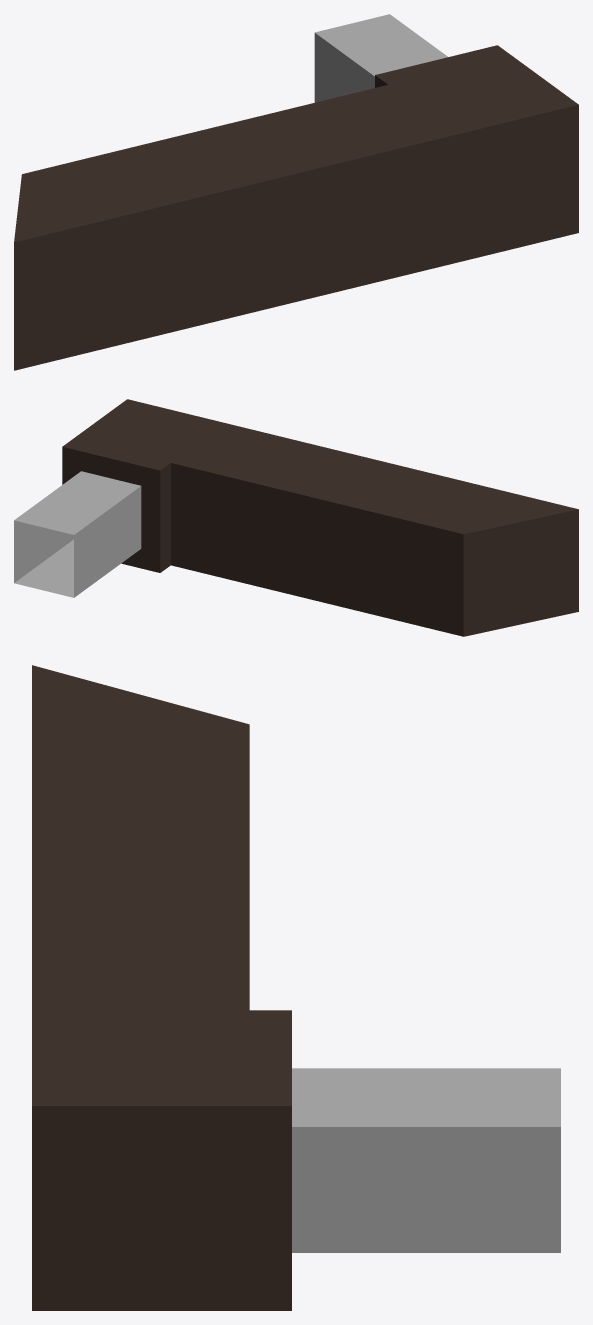
File: Door Handle 2.fbx
The picture shows the model from 3 angles, top to bottom: view 1: azimuth 30°, elevation 25°; view 2: azimuth 150°, elevation 25°; view 3: azimuth 270°, elevation 25°; orthographic projection. The views are drawn at different scales.
Visible parts, largest first — view 1: Door Handle 2; view 2: Door Handle 2; view 3: Door Handle 2.
Boxes of the visible parts, x1=… form: Door Handle 2: x1=14, y1=14, x2=578, y2=370; Door Handle 2: x1=14, y1=399, x2=578, y2=636; Door Handle 2: x1=32, y1=665, x2=560, y2=1310.
Bounding box in the file's own units: 21.35 × 4.63 × 10.83.
